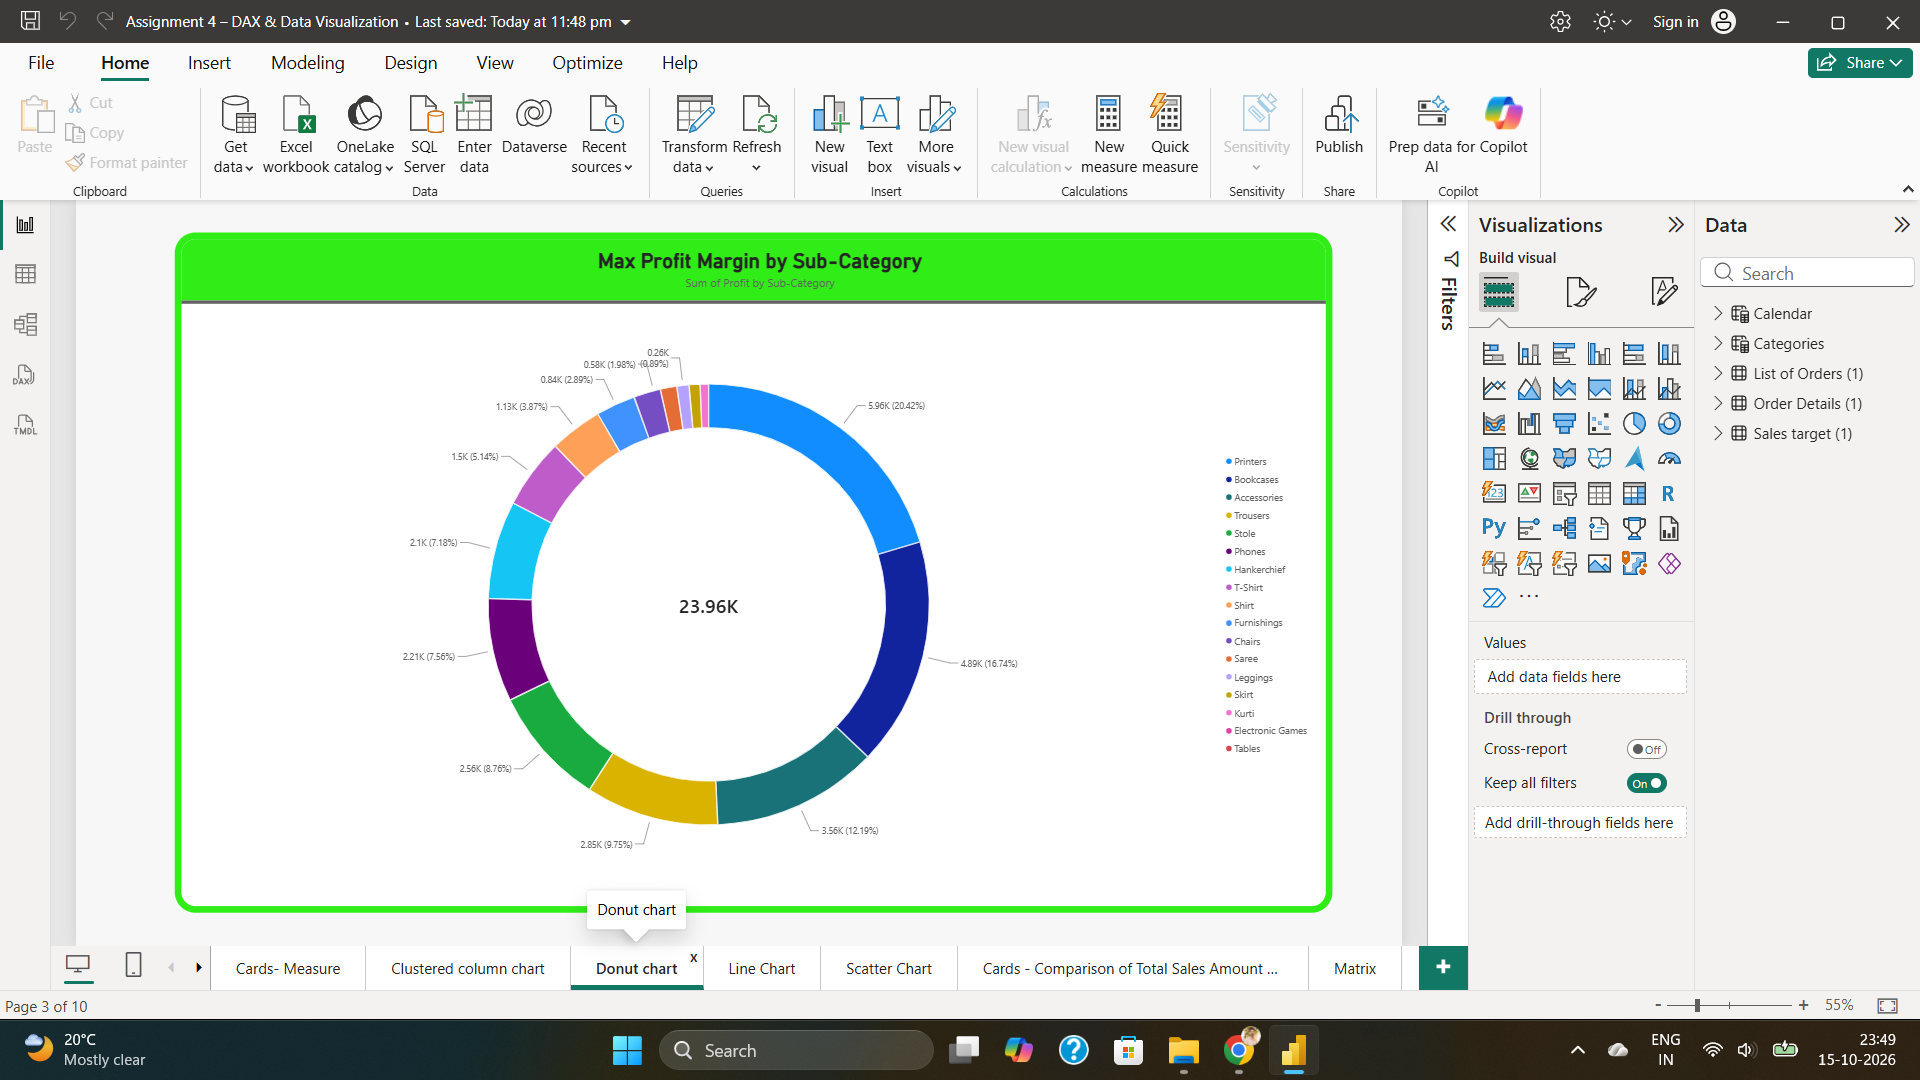

The dashboard page shown, as its layout file describes it:
{"tool":"powerbi","page":{"name":"Donut chart","canvas":[1920,1080],"ordinal":2},"visuals":[{"type":"donutChart","title":"Max Profit Margin by Sub-Category","fields":{"Category":["Order Details (1).Sub-Category"],"Y":["Calendar.Max profit margin"]},"box":[143,47.1,1675.7,984.5],"z":0}]}

Visuals, with their boxes on the page's 1920x1080 design canvas (x1, y1, x2, y2). These are canvas units, not pixel positions in the 1920x1080 screenshot, which may show the page scaled, cropped or inside an application window:
"Max Profit Margin by Sub-Category" donutChart: {"x1": 143, "y1": 47, "x2": 1819, "y2": 1032}
